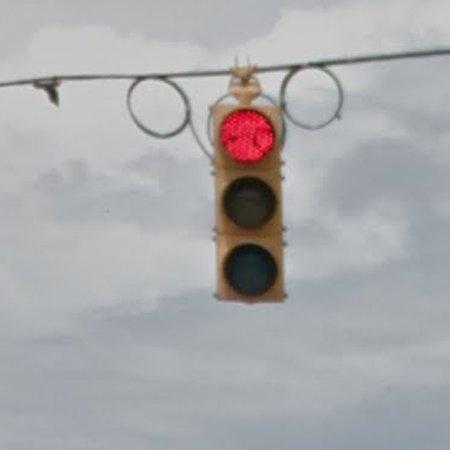traffic lights: (212, 67, 285, 302)
